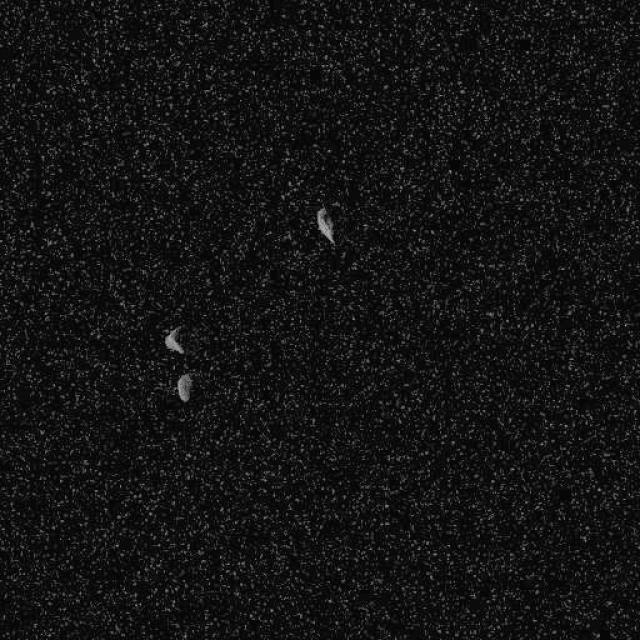D2: (315, 205, 335, 245), (164, 325, 184, 354), (175, 372, 193, 402)
